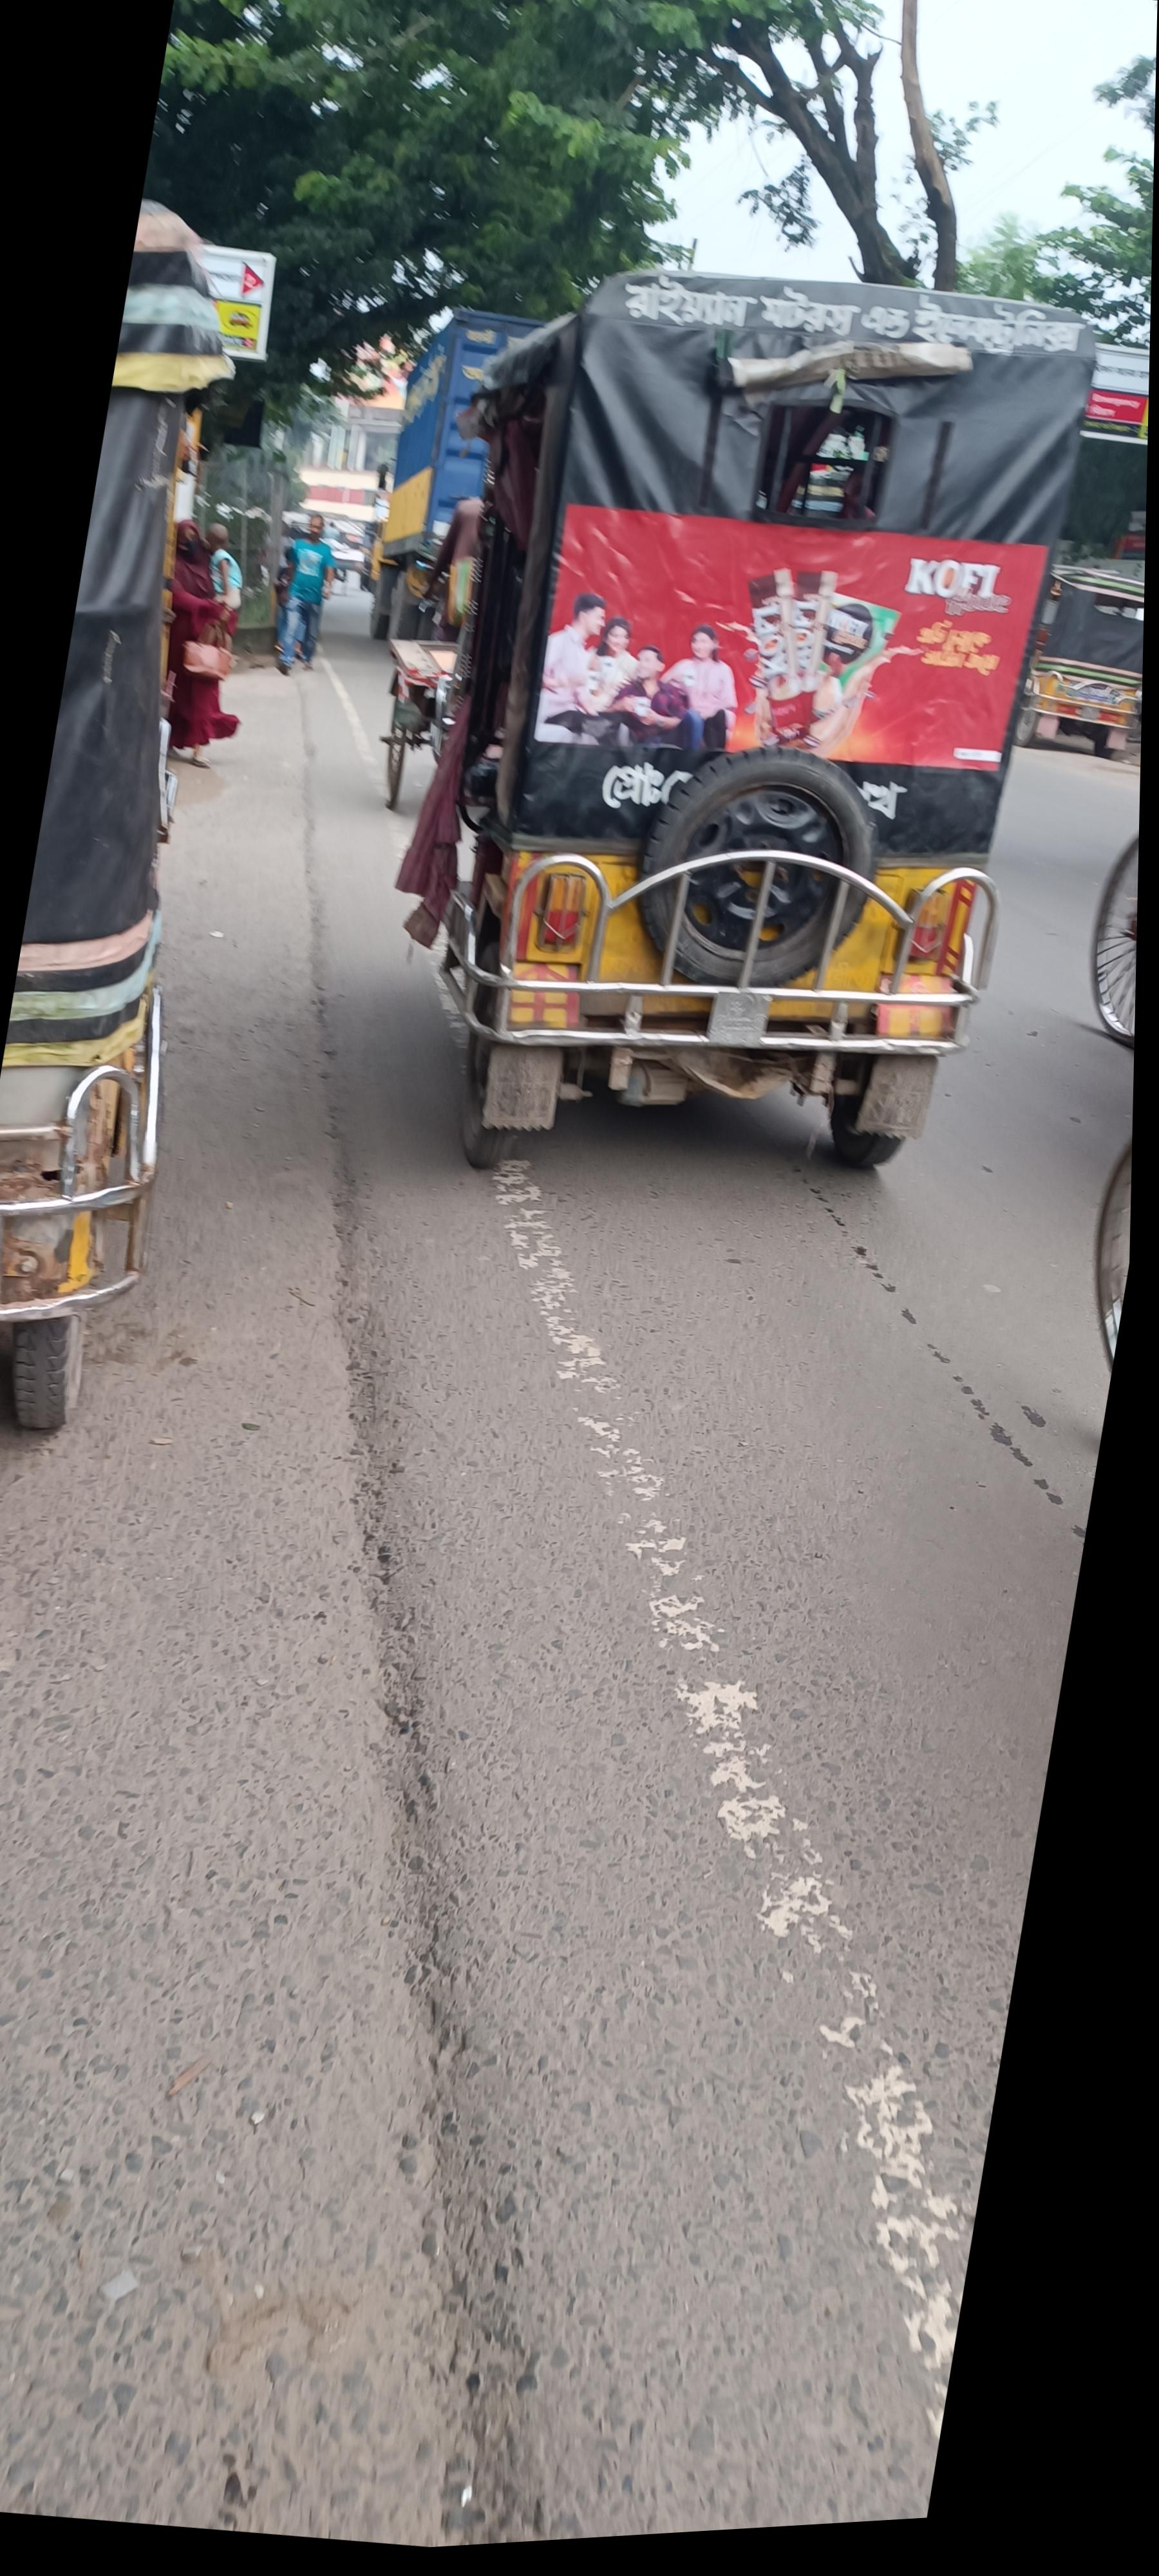Construction-barrier: (297, 1357, 895, 2509)
Garbage-bin: (445, 439, 530, 608), (831, 550, 932, 692), (714, 519, 793, 670), (781, 573, 880, 688), (762, 545, 826, 651)
Traffic-cone: (520, 151, 1159, 1175)
